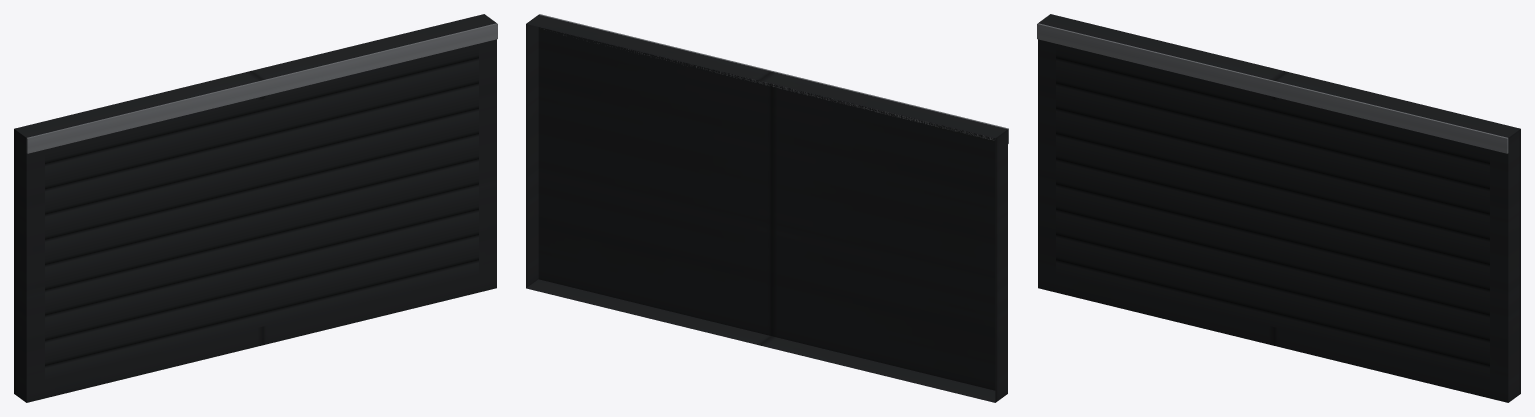
The model's file is SM_LFD_WallVent.fbx.
3 views of the same model, side by side, from view 1: azimuth 30°, elevation 25°; view 2: azimuth 150°, elevation 25°; view 3: azimuth 330°, elevation 25° (orthographic).
Parts seen in each view (by area): view 1: SM_LFD_WallVent; view 2: SM_LFD_WallVent; view 3: SM_LFD_WallVent.
Boxes of the visible parts, x1,y1,x2,y2 form: SM_LFD_WallVent: (14,14,497,402); SM_LFD_WallVent: (526,14,1008,402); SM_LFD_WallVent: (1037,14,1520,402).
Bounding box in the file's own units: 1.3 × 0.7 × 0.065.
